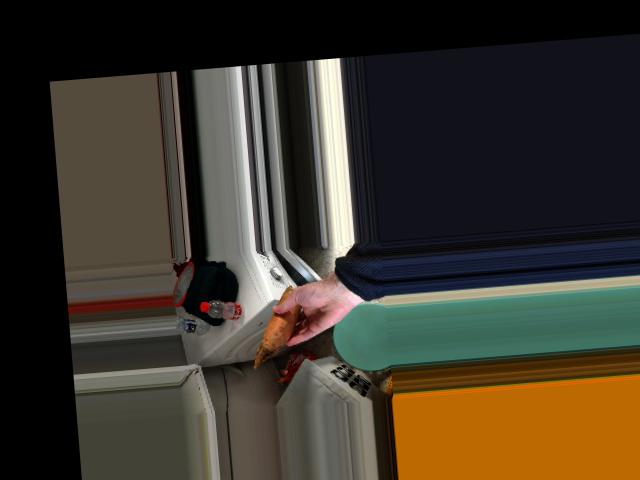sweet_potato: (260, 298, 302, 348)
